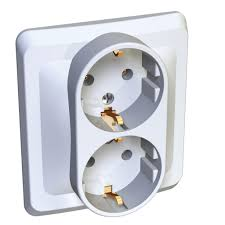raccoon: (79, 44, 165, 134), (80, 135, 162, 218)
